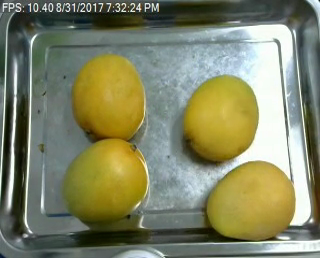Mango: (205, 160, 295, 241), (64, 137, 148, 221), (183, 75, 258, 161), (71, 55, 145, 140)
